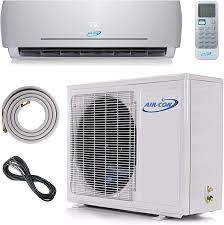ac: (1, 1, 187, 62)
